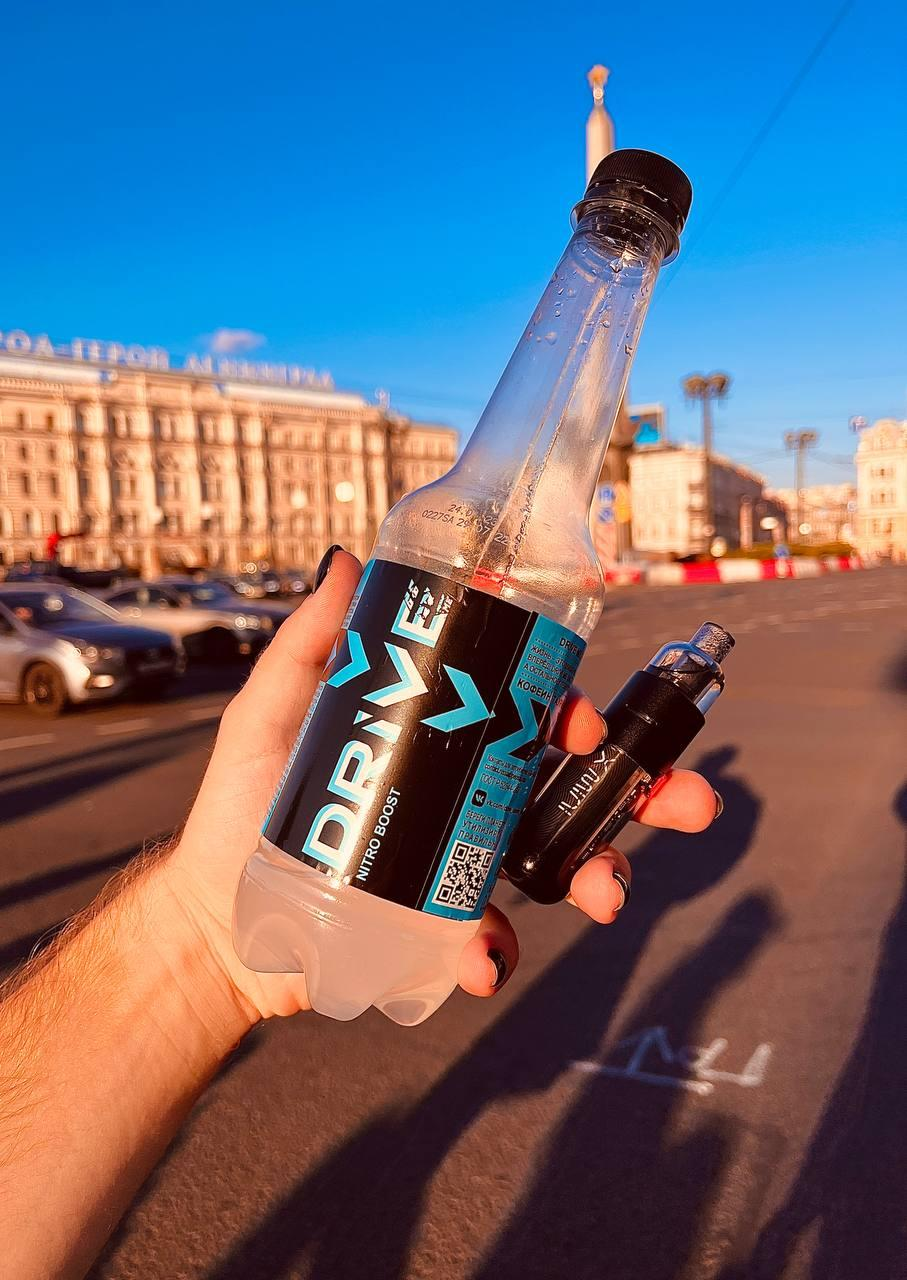Vape: (501, 621, 737, 904)
